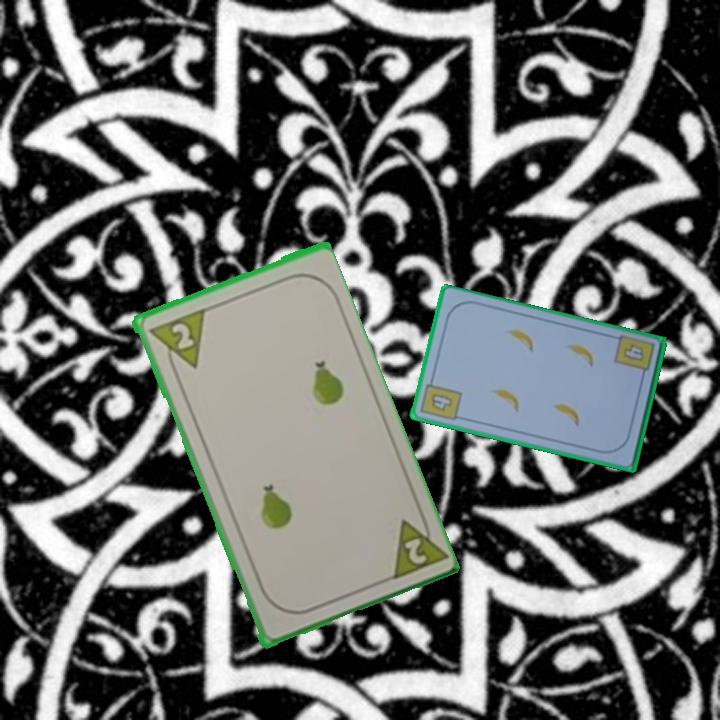2p: (384, 506, 447, 584), (144, 305, 207, 379)
4b: (417, 374, 465, 424), (619, 341, 647, 365)
